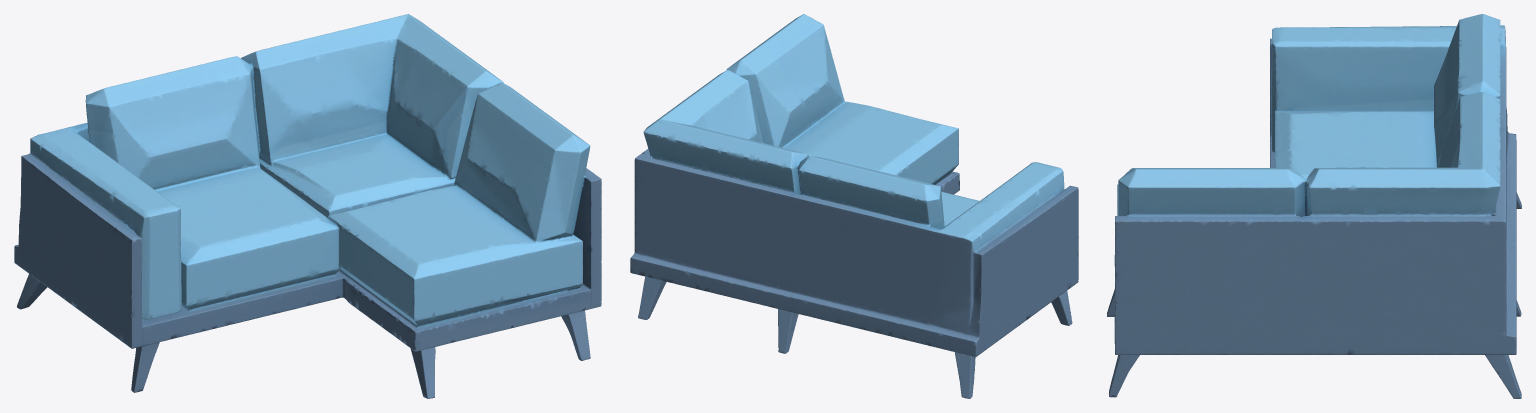
The model's file is SofaAzulEsquinero.glb.
3 views of the same model, side by side, from view 1: azimuth 30°, elevation 25°; view 2: azimuth 150°, elevation 25°; view 3: azimuth 270°, elevation 25° (orthographic). The views are drawn at different scales.
Size of the model in its own units: 1.9 by 0.9885 by 1.64.
1 material, 1 textured.
